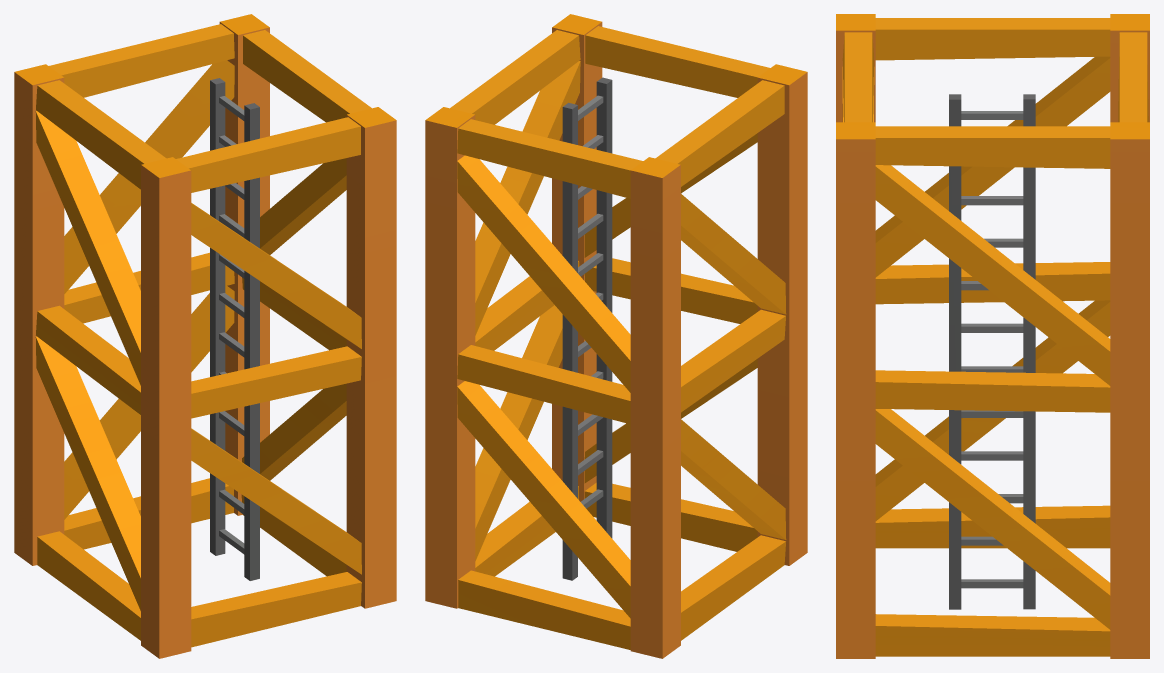
Rendered from TowerCrane_Add.fbx.
3 renders of one model, left to right at view 1: azimuth 30°, elevation 25°; view 2: azimuth 150°, elevation 25°; view 3: azimuth 270°, elevation 25°, orthographic. The views are drawn at different scales.
Visible parts, largest first — view 1: TowerCrane_Add; view 2: TowerCrane_Add; view 3: TowerCrane_Add.
Boxes of the visible parts, x1,y1,x2,y2 form: TowerCrane_Add: (14,14,396,658); TowerCrane_Add: (425,14,807,658); TowerCrane_Add: (836,14,1149,658).
Bounding box in the file's own units: 93.05 × 180 × 98.6.
